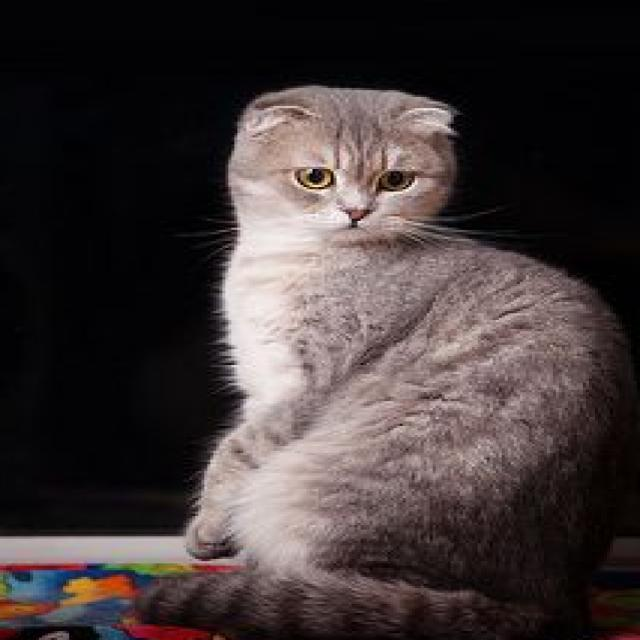Scottish Fold: (123, 76, 640, 640)
